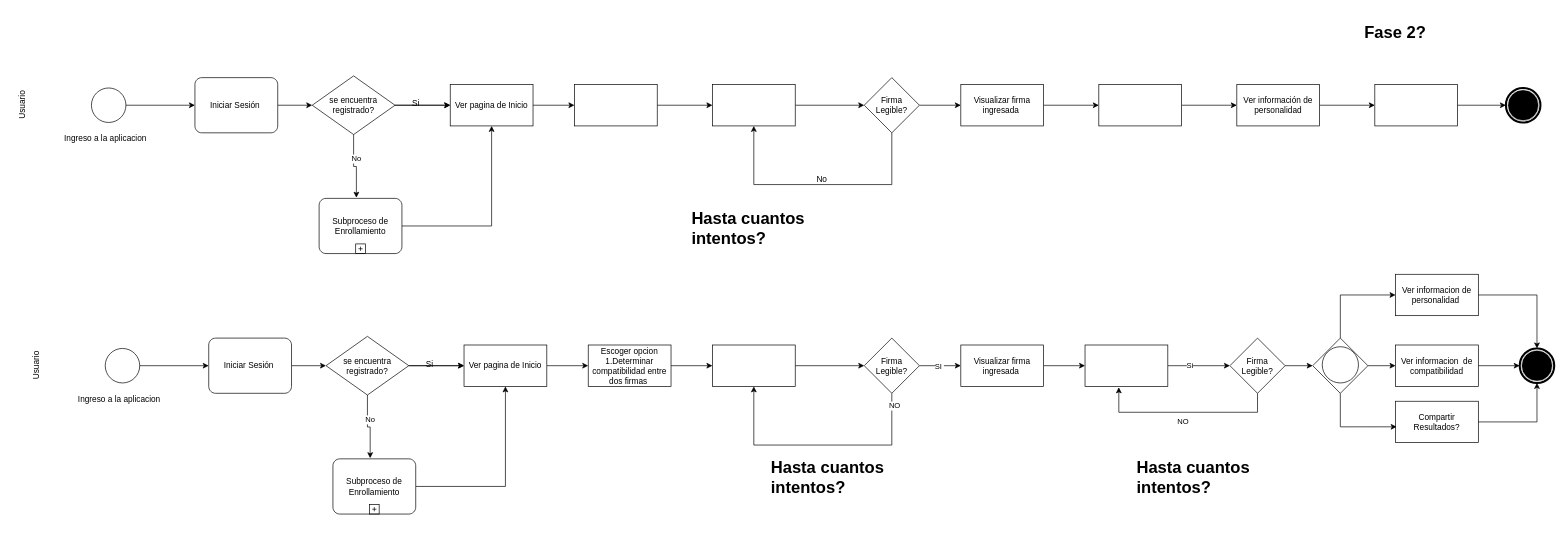
Image size: 1566x548. Some labels were removed from this diagram. Here are the shapes that lost their labels. From the top down, the centre of each, then its label:
pixel 615 105: Escoger opcion 1.Determinar Personalidad
pixel 753 105: Ingresar foto de la firma
pixel 1140 105: Enviar la foto de la firma
pixel 1416 105: Exportar o compartir
pixel 753 365: Ingresar foto de la firma numero 1
pixel 1126 365: Ingresar foto de la firma numero 2
